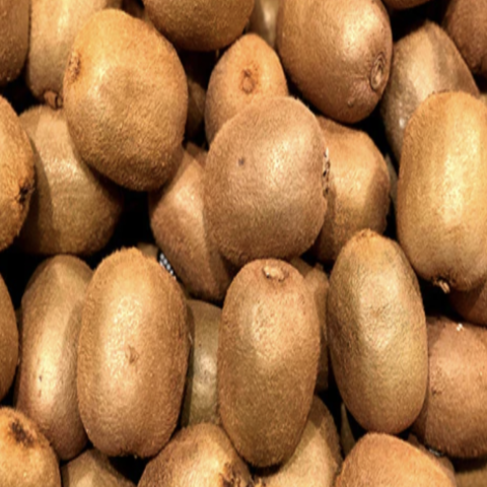kiwi: (200, 89, 357, 273), (73, 242, 196, 473), (311, 220, 448, 427), (53, 4, 194, 205), (214, 249, 325, 479), (386, 81, 487, 283)
